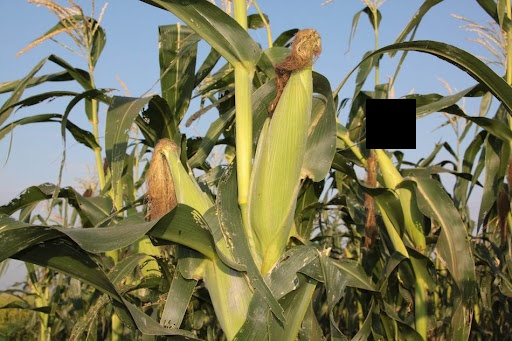corn_plant: (144, 136, 253, 338), (248, 24, 325, 271)
